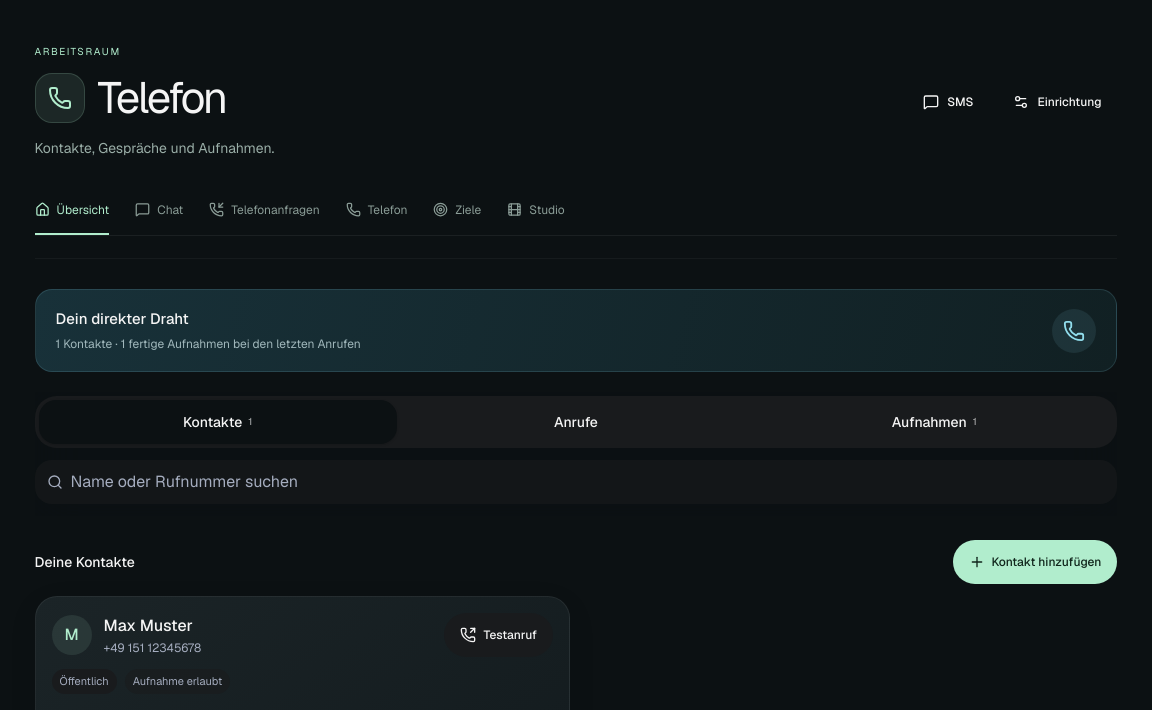
Scenario: Telefonkontakte › zeigt Aufnahmen erst nach bestätigter Fertigstellung und lädt sie nur auf Klick
Click the tab "Aufnahmen 1" at (934, 422), box [755, 400, 1113, 444]
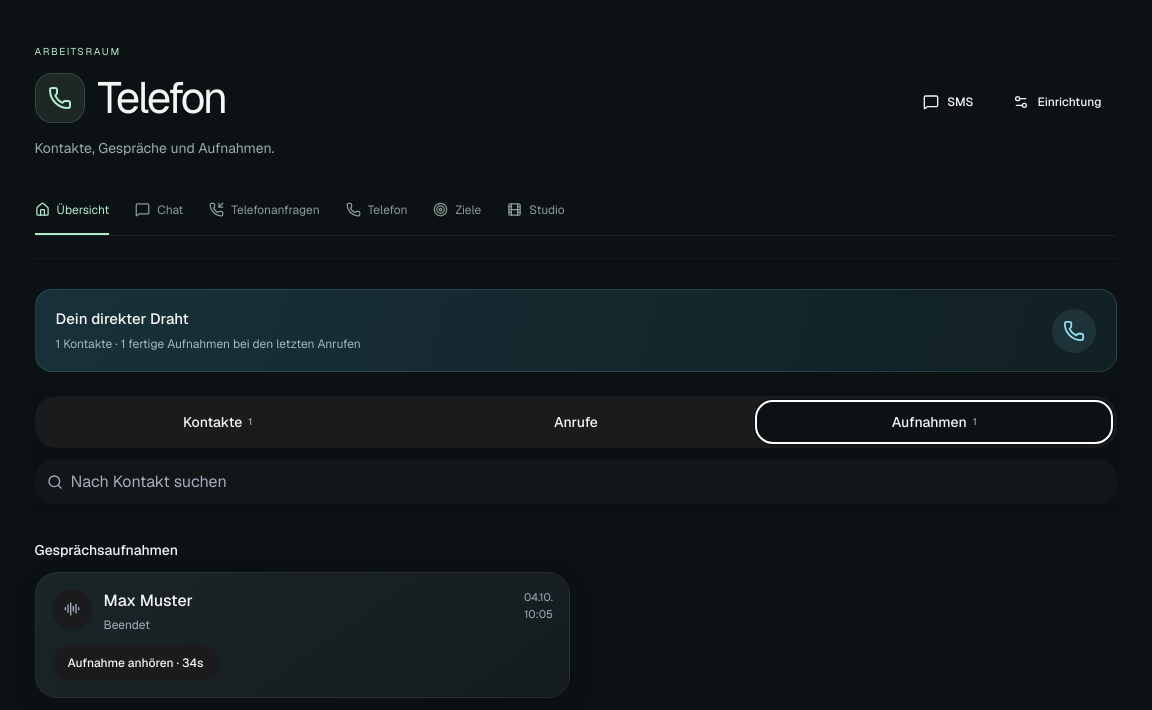
Now the button "Aufnahme anhören · 34s" is enabled, box [52, 645, 219, 681]
